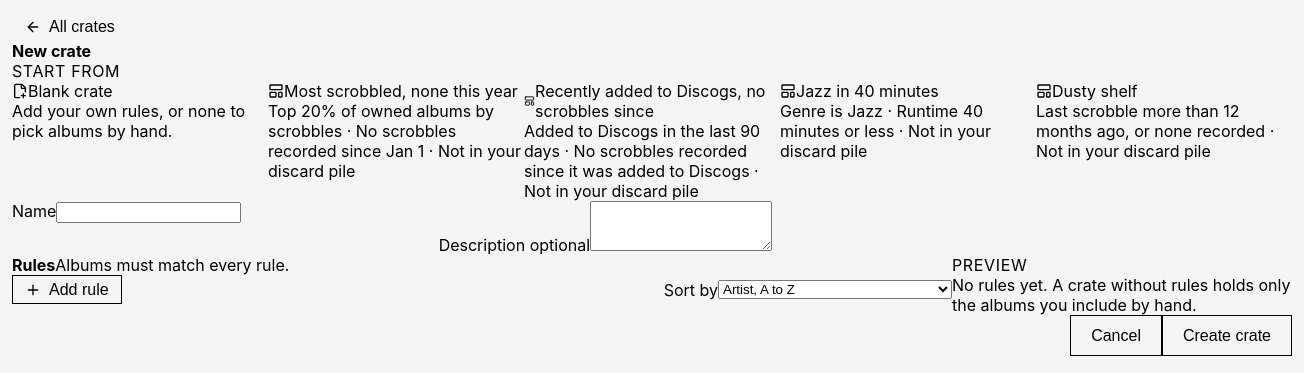
Test: CratesPage › editor › requires a name
Step 1. Click the button "Create crate" → (1227, 336), box x1=1162 y1=315 x2=1292 y2=356
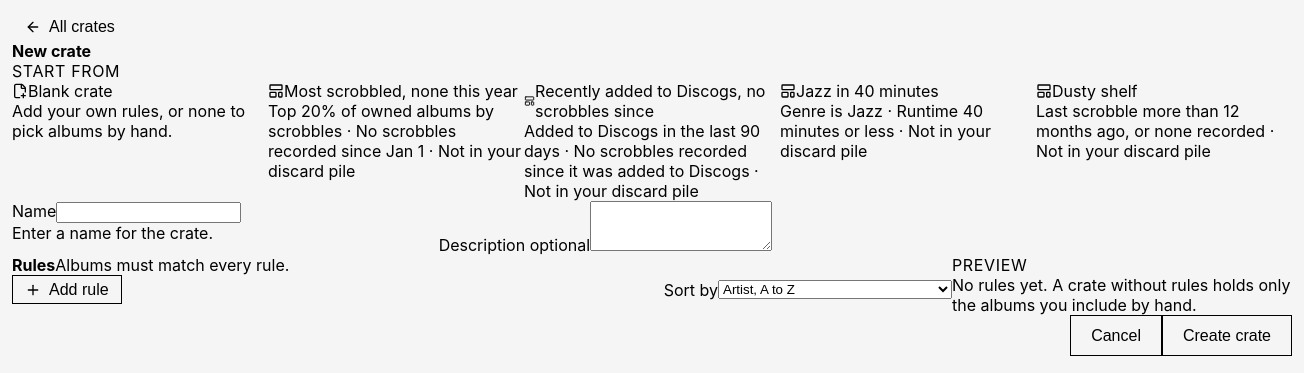
Expected: the text "Enter a name for the crate." is shown, x1=12 y1=223 x2=213 y2=243
